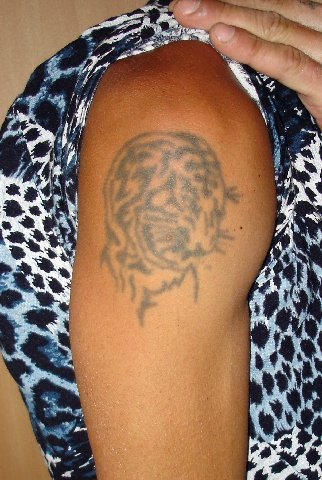tatu5_tigr: (99, 129, 242, 326)
